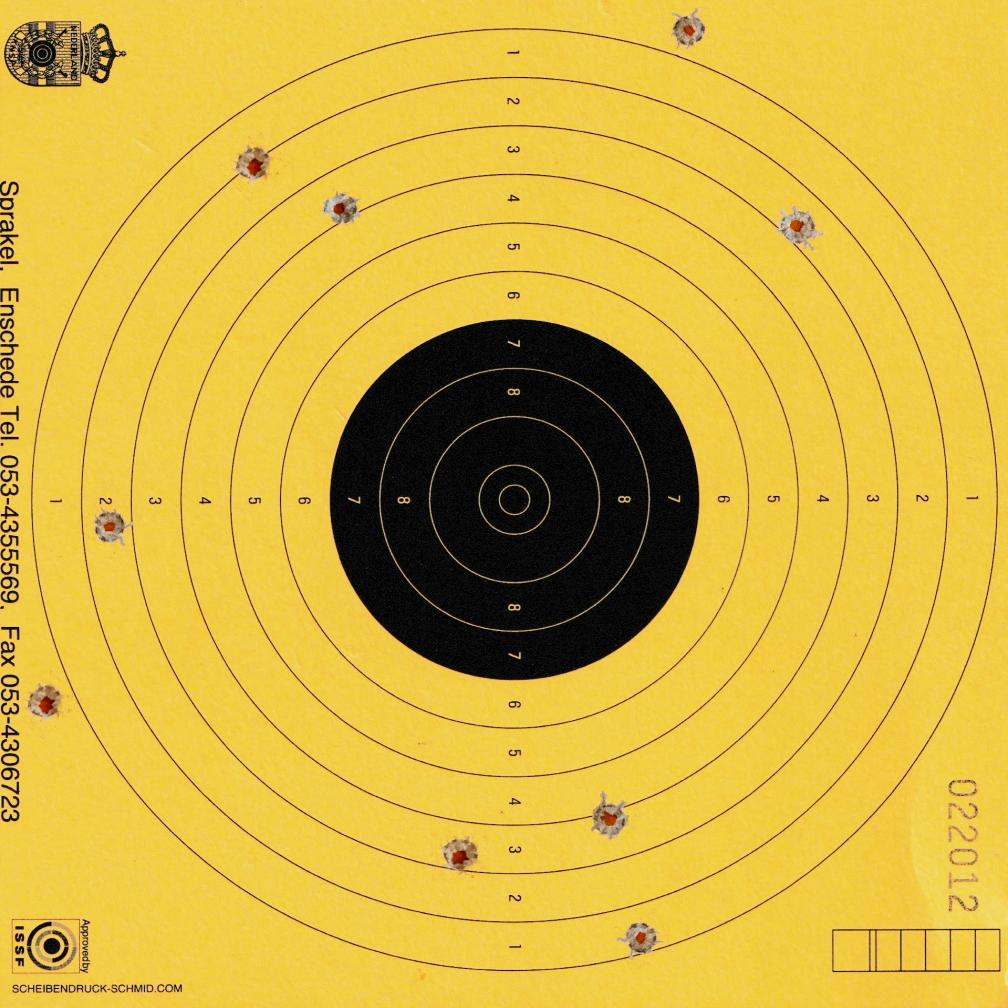0: (27, 680, 64, 724), (672, 13, 708, 49)
1: (618, 920, 663, 960)
2: (91, 506, 133, 544), (236, 146, 271, 182)
3: (441, 833, 481, 875)
4: (773, 205, 822, 253), (588, 794, 630, 839), (321, 190, 363, 226)
Target: (24, 25, 1001, 979)
black_contour: (329, 318, 699, 680)
